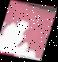dent: (0, 0, 58, 60)
